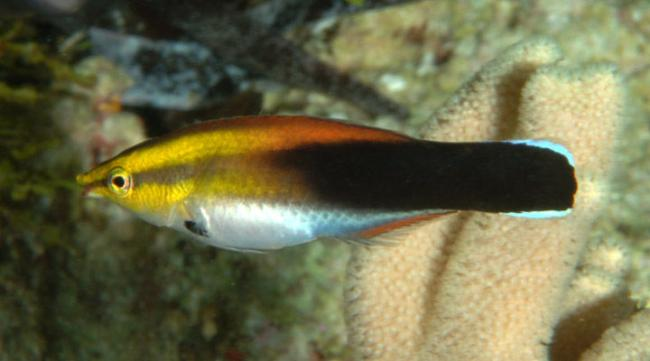fish: (76, 113, 580, 255)
